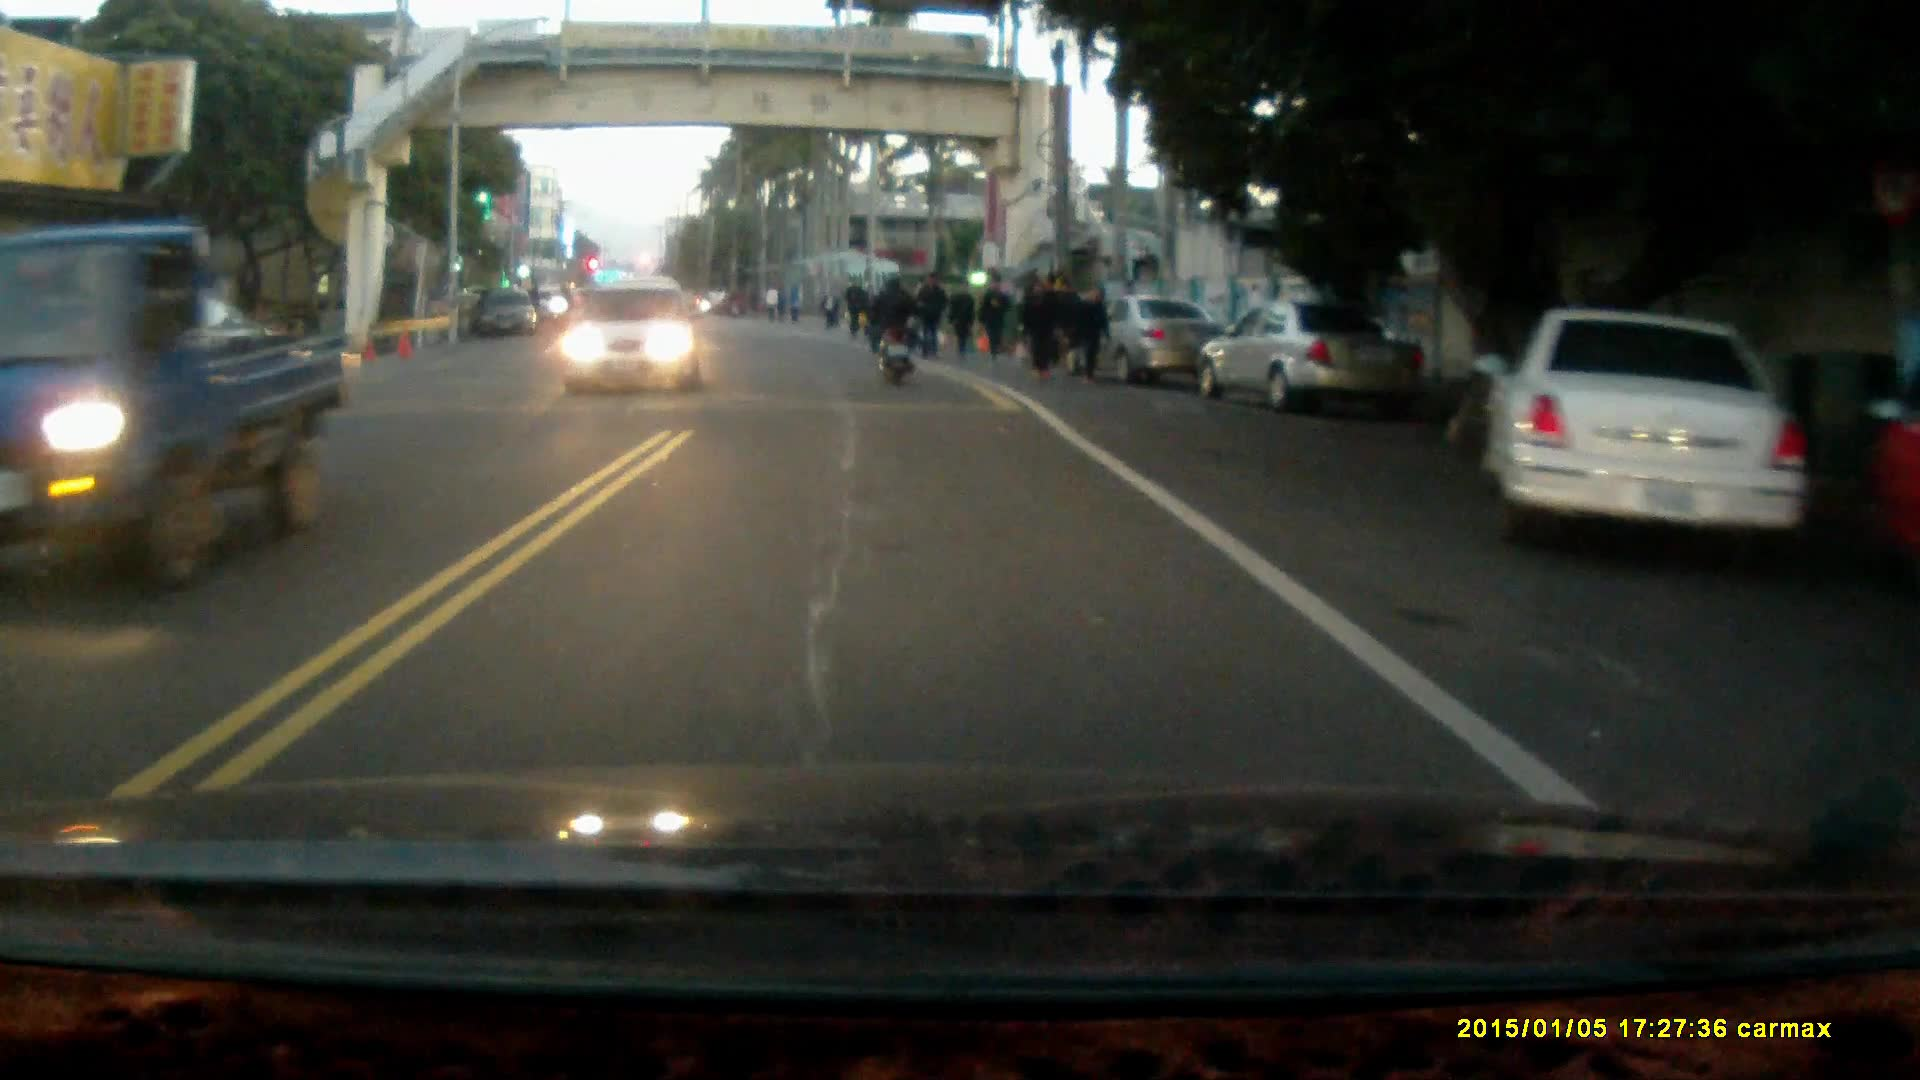pedestrian: (1019, 273, 1053, 379), (1075, 284, 1110, 378), (1040, 271, 1072, 374), (978, 269, 1011, 361), (914, 270, 948, 358), (947, 277, 981, 360)
rider: (864, 273, 920, 390)
vehicle: (2, 220, 344, 605), (1476, 308, 1830, 579), (1201, 297, 1420, 417), (561, 279, 706, 397), (1104, 295, 1235, 393)
